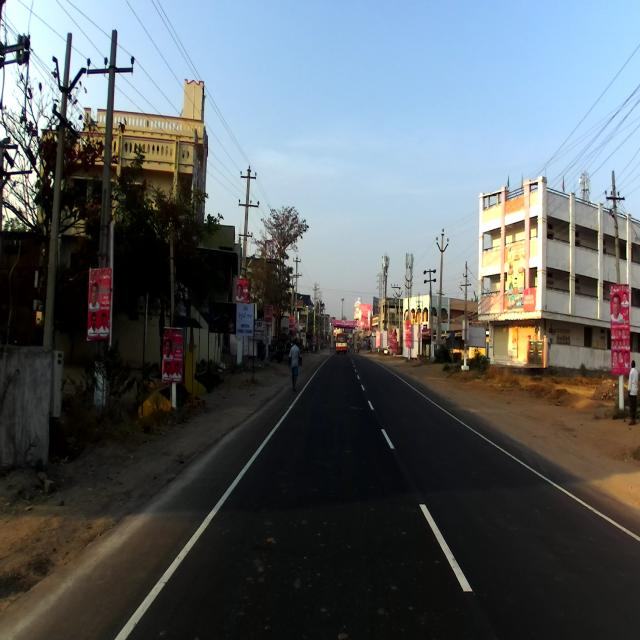electric pole ahead at: (78, 20, 136, 456)
